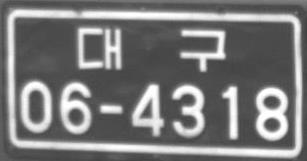0: (19, 80, 53, 133)
1: (216, 85, 250, 140)
3: (171, 84, 205, 137)
4: (131, 83, 163, 136)
6: (58, 80, 92, 135)
8: (255, 85, 289, 141)
대구_D: (76, 26, 227, 71)
